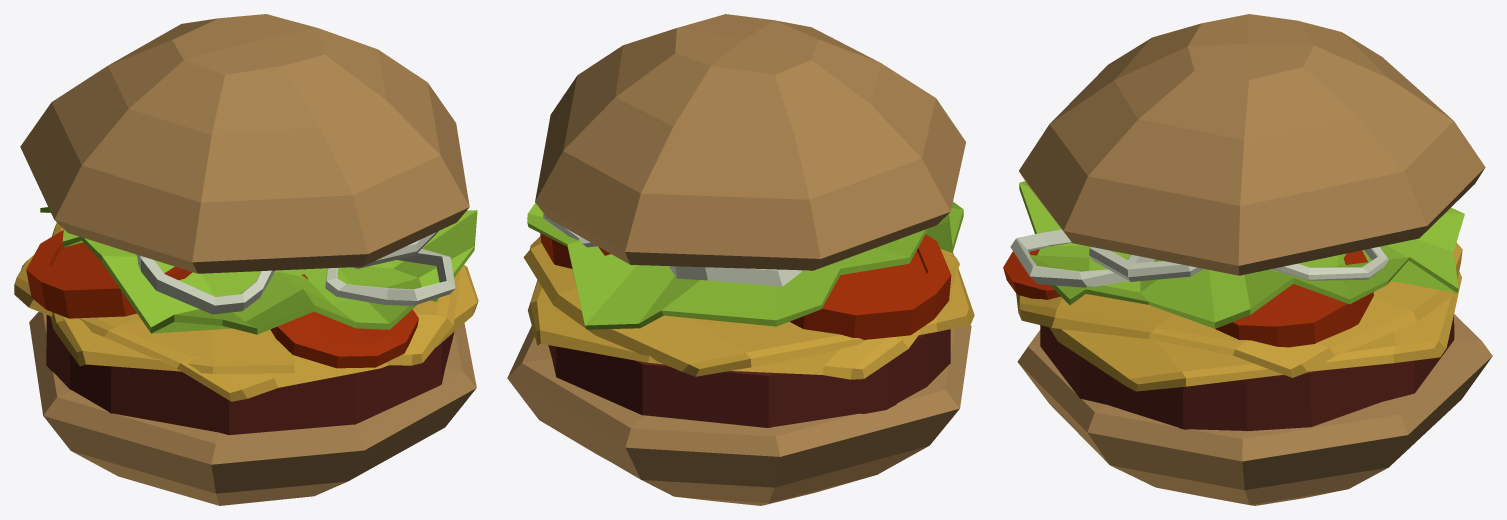
The model's file is Hamburguesa.fbx.
3 renders of one model, left to right at view 1: azimuth 30°, elevation 25°; view 2: azimuth 150°, elevation 25°; view 3: azimuth 270°, elevation 25°, orthographic.
Visible parts, largest first — view 1: pCube1, pCube6, pCylinder1, pCube8, pCube5, pCube7, pCylinder6, pCylinder9, pasted__pTorus1, pTorus1, pasted__pasted__pTorus1; view 2: pCube1, pCube6, pCylinder1, pCube8, pCube5, pCylinder6, pCube7, pasted__pasted__pasted__pasted__pTorus1, pCylinder7; view 3: pCube1, pCube6, pCylinder1, pCube8, pCube5, pCube7, pCylinder7, pasted__pTorus1, pasted__pasted__pTorus1, pasted__pasted__pasted__pTorus1, pCylinder9.
Boxes of the visible parts, left/top/right/bottom form: pCube1: left=20, top=14, right=469, bottom=273; pCube6: left=29, top=312, right=476, bottom=505; pCylinder1: left=46, top=315, right=454, bottom=435; pCube8: left=40, top=207, right=477, bottom=334; pCube5: left=50, top=222, right=460, bottom=373; pCube7: left=14, top=255, right=478, bottom=401; pCylinder6: left=26, top=230, right=192, bottom=318; pCylinder9: left=270, top=274, right=418, bottom=368; pasted__pTorus1: left=325, top=249, right=455, bottom=305; pTorus1: left=136, top=254, right=275, bottom=314; pasted__pasted__pTorus1: left=353, top=231, right=438, bottom=268; pCube1: left=535, top=14, right=965, bottom=270; pCube6: left=507, top=325, right=971, bottom=505; pCylinder1: left=548, top=329, right=950, bottom=427; pCube8: left=527, top=202, right=963, bottom=329; pCube5: left=523, top=236, right=974, bottom=376; pCylinder6: left=790, top=234, right=951, bottom=339; pCube7: left=527, top=251, right=959, bottom=379; pasted__pasted__pasted__pasted__pTorus1: left=668, top=266, right=801, bottom=286; pCylinder7: left=540, top=233, right=610, bottom=268; pCube1: left=1019, top=14, right=1485, bottom=275; pCube6: left=1017, top=314, right=1492, bottom=505; pCylinder1: left=1040, top=315, right=1454, bottom=431; pCube8: left=1019, top=181, right=1464, bottom=328; pCube5: left=1016, top=242, right=1462, bottom=377; pCube7: left=1049, top=271, right=1461, bottom=391; pCylinder7: left=1215, top=250, right=1373, bottom=347; pasted__pTorus1: left=1010, top=229, right=1154, bottom=287; pasted__pasted__pTorus1: left=1089, top=246, right=1203, bottom=281; pasted__pasted__pasted__pTorus1: left=1271, top=246, right=1388, bottom=280; pCylinder9: left=1003, top=249, right=1060, bottom=299.
Size of the model in its own units: 3.4 by 3.38 by 3.46.
